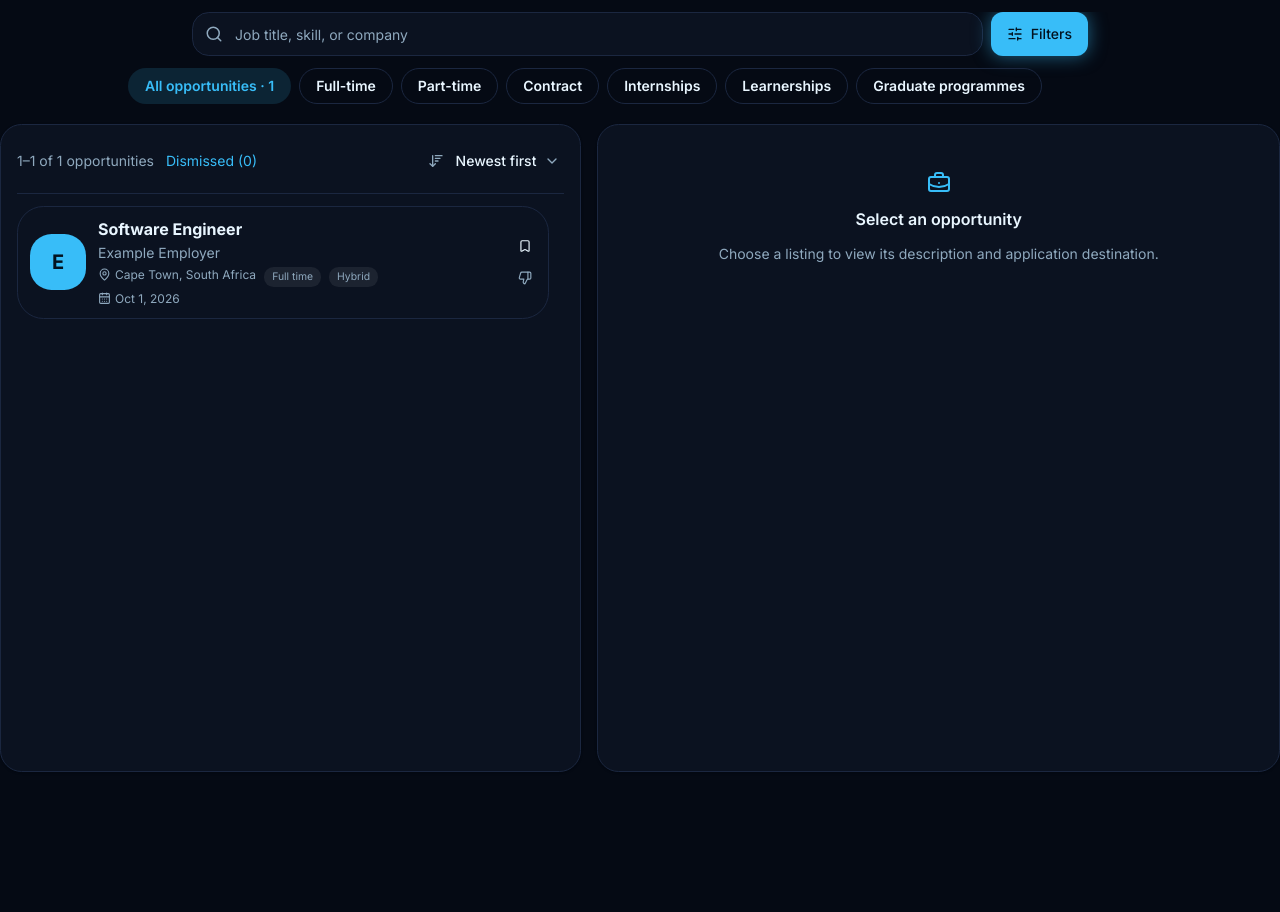
Job Discovery › does not render unsafe non-web source or application URLs
What coordinates should you click on to do the following:
click the button with aria-label "Software Engineer, Example Employer"
I would click on:
 (58, 262)
Its box is [17,206,549,319].
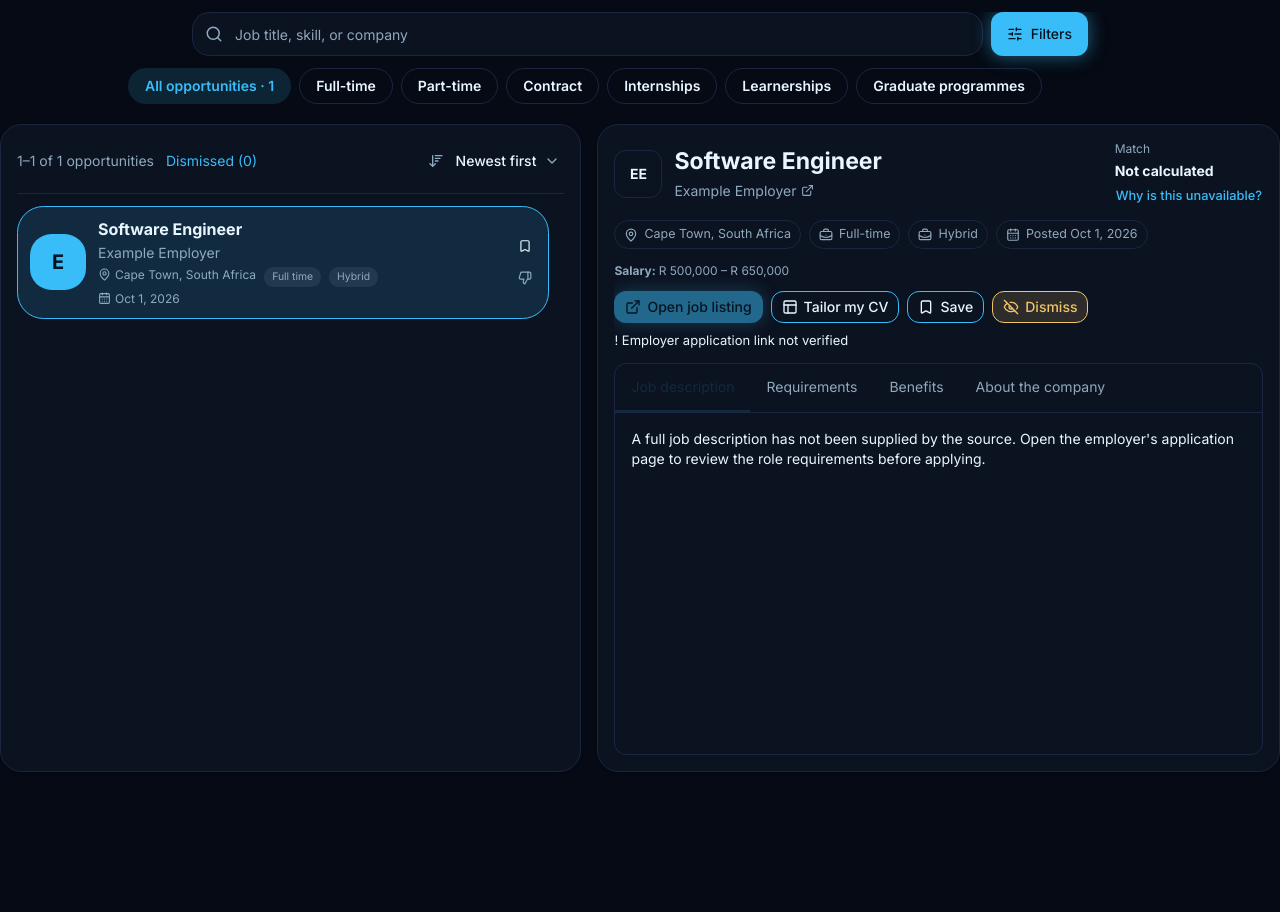
Now the text "! Employer application link not verified" is shown, box [614,332,848,348]
Now the text "A full job description has not been supplied by the source" is shown, box [631,430,1238,466]
Now the button "Open job listing" is disabled, box [614,291,762,323]
